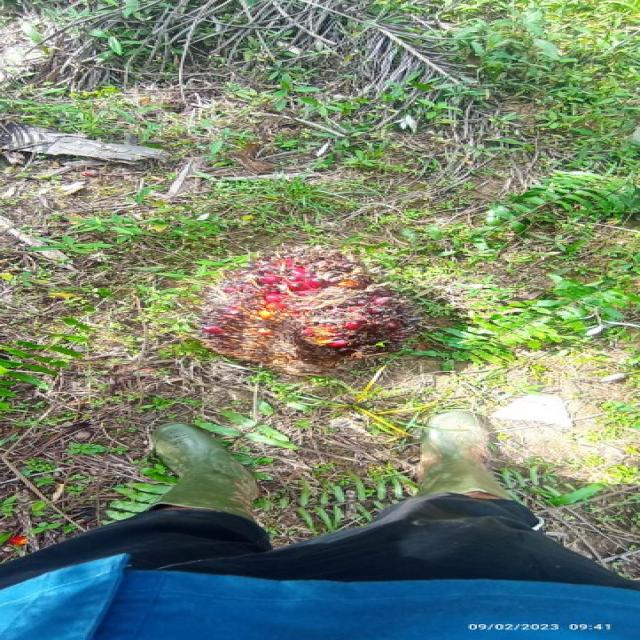fraksi 3: (186, 230, 426, 370)
